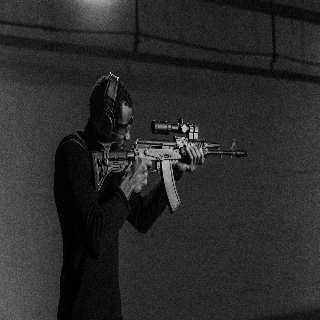rifle: (89, 117, 251, 214)
